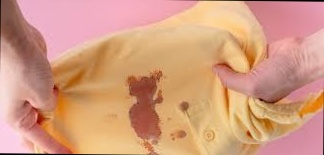blood: (126, 75, 161, 138)
